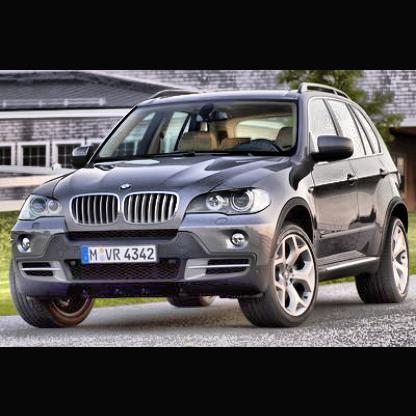BMW X5 SUV 2007: (12, 85, 411, 332)
